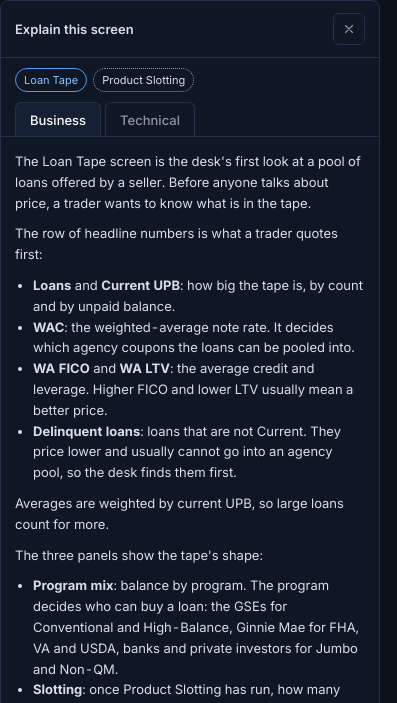
ExplainPanel › switches to the Product Slotting explanation and its glossary terms (Step 5b)
Click the button "Product Slotting" at (144, 80), box [93,68,194,92]
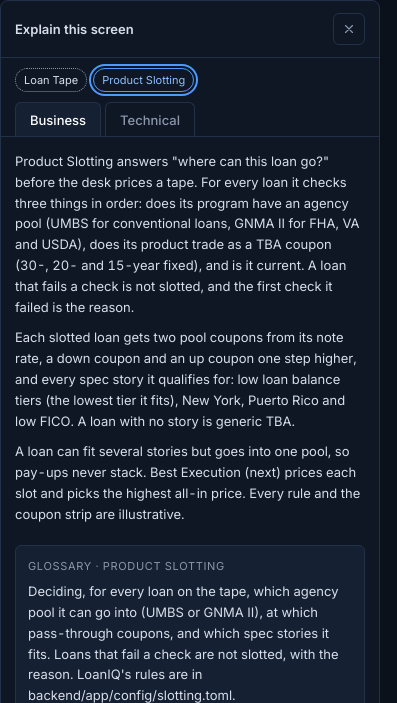
Expected: the panel shows "where can this loan go", [15,153,360,315]
